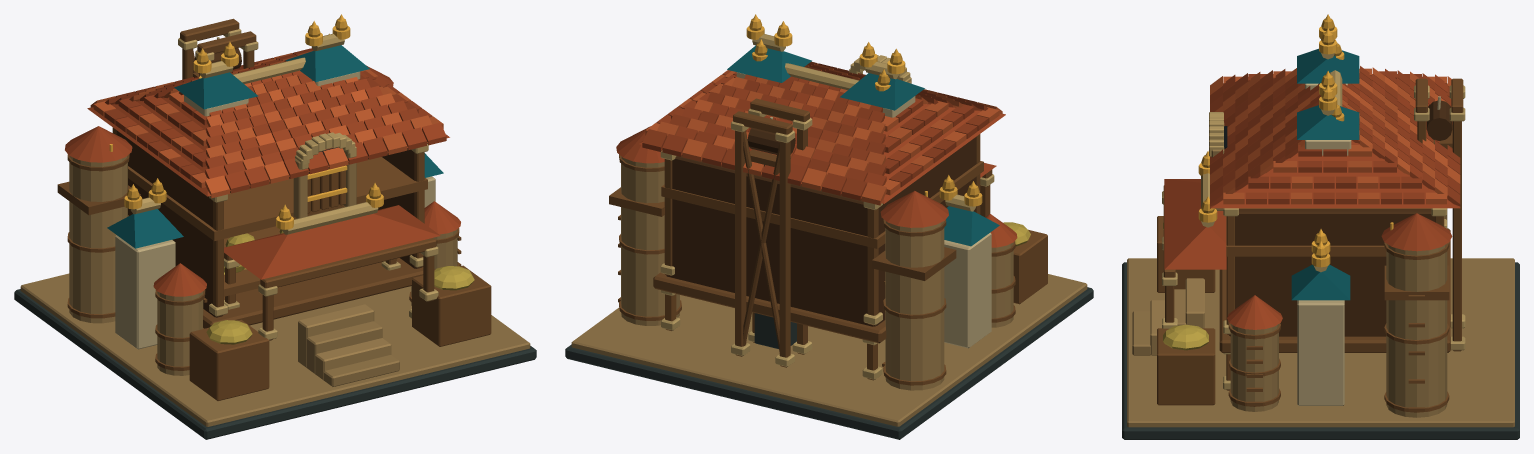
The picture shows the model from 3 angles, left to right: view 1: azimuth 30°, elevation 25°; view 2: azimuth 150°, elevation 25°; view 3: azimuth 270°, elevation 25°; orthographic projection. The views are drawn at different scales.
Parts seen in each view (by area): view 1: granary_12_structure, granary_12_metal; view 2: granary_12_structure, granary_12_metal; view 3: granary_12_structure, granary_12_metal.
Boxes of the visible parts, x1=… form: granary_12_structure: x1=14, y1=18, x2=536, y2=439; granary_12_metal: x1=109, y1=14, x2=383, y2=229; granary_12_structure: x1=565, y1=18, x2=1093, y2=439; granary_12_metal: x1=746, y1=14, x2=982, y2=206; granary_12_structure: x1=1122, y1=18, x2=1519, y2=439; granary_12_metal: x1=1198, y1=14, x2=1393, y2=267.
Size of the model in its own units: 5.6 by 4.78 by 5.6.
